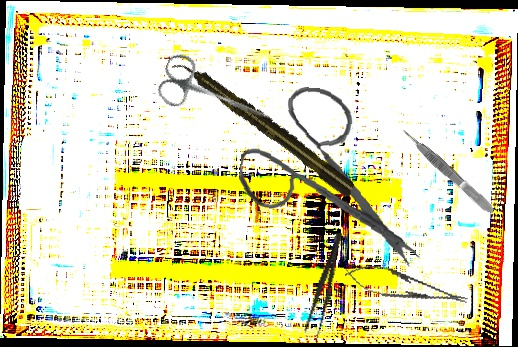Dressing Forceps: (301, 230, 349, 344)
Handpiece: (171, 51, 359, 201)
Iris Scissors: (232, 82, 435, 268), (153, 50, 280, 141)
Needle Holder: (342, 258, 471, 316)
Tissue Forceps: (399, 125, 497, 217)
